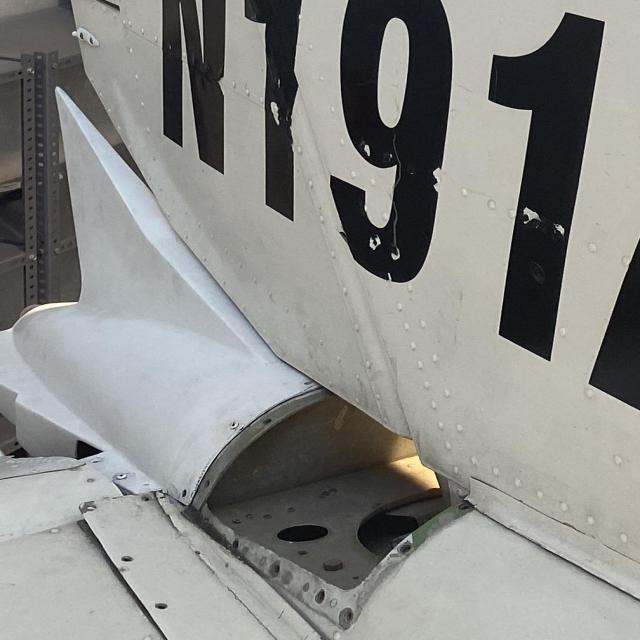Missing-head: (119, 555, 136, 564), (153, 602, 170, 610)
